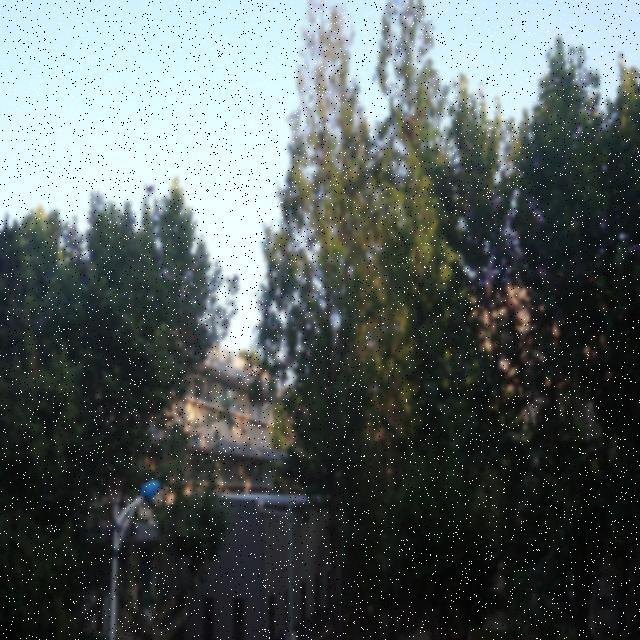UAV: (143, 183, 157, 200)
